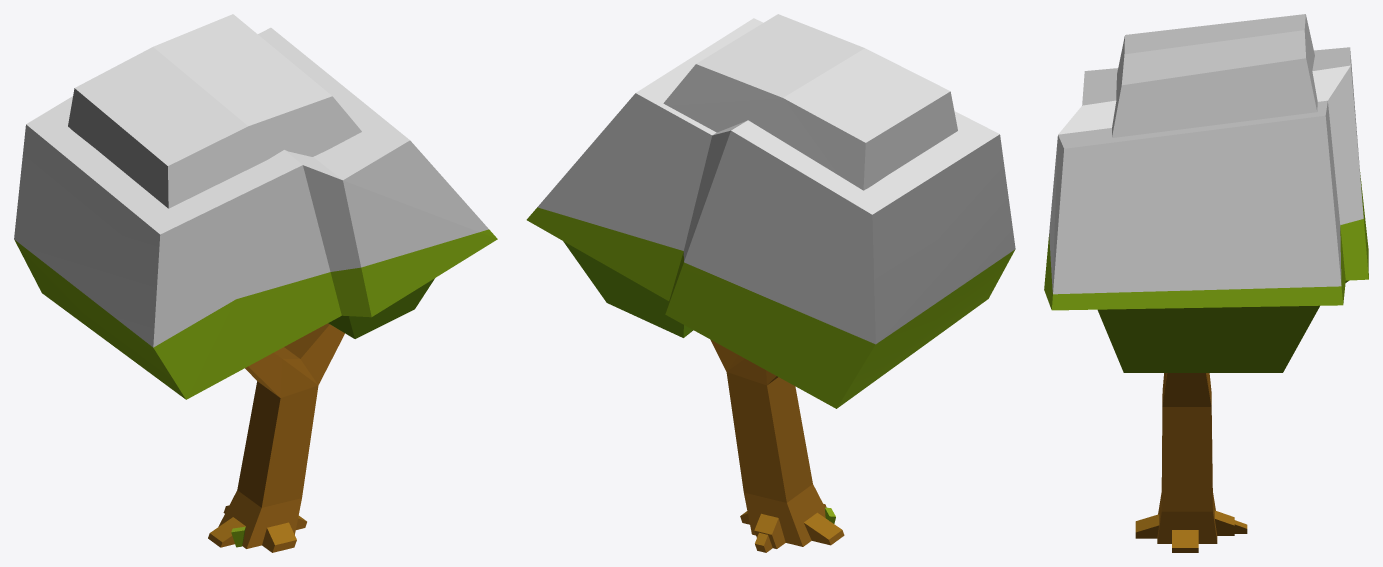
Rendered from SF_Env_Tree_Snow_01.fbx.
The picture shows the model from 3 angles, left to right: view 1: azimuth 30°, elevation 25°; view 2: azimuth 150°, elevation 25°; view 3: azimuth 270°, elevation 25°; orthographic projection. The views are drawn at different scales.
Visible parts, largest first — view 1: SF_Env_Tree_Snow_01; view 2: SF_Env_Tree_Snow_01; view 3: SF_Env_Tree_Snow_01.
Part boxes in pixels (x1,y1,x2,y2): SF_Env_Tree_Snow_01: (14, 14, 497, 552); SF_Env_Tree_Snow_01: (526, 14, 1015, 552); SF_Env_Tree_Snow_01: (1044, 14, 1368, 552).
Bounding box in the file's own units: 5.35 × 7.14 × 4.27.
